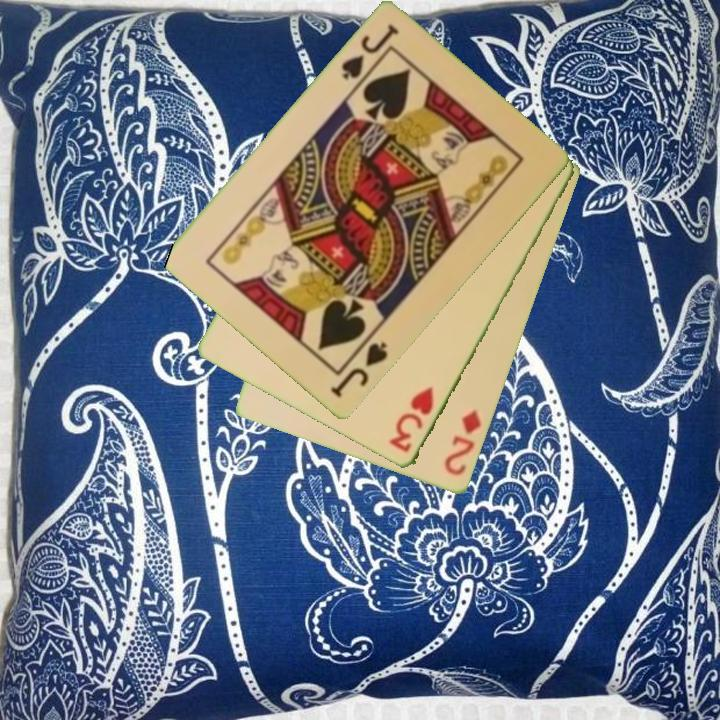2d: (441, 407, 485, 479)
3h: (386, 383, 437, 456)
Js: (337, 21, 402, 91), (326, 338, 391, 401)
